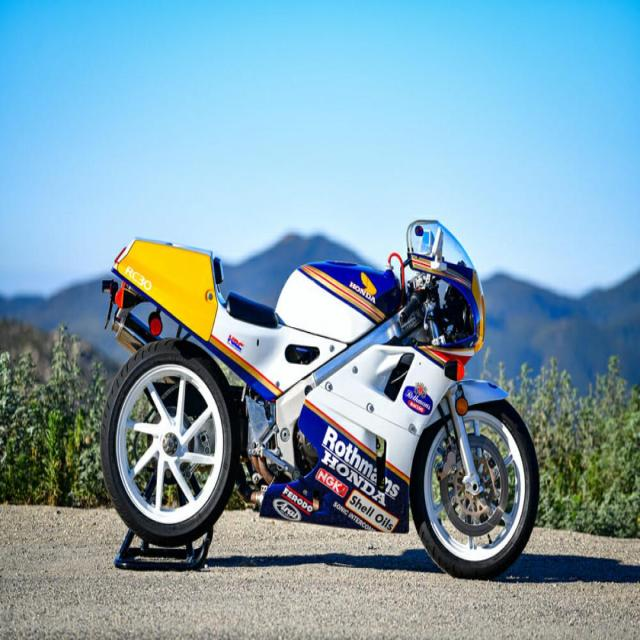Motorcycle: (100, 219, 539, 578)
